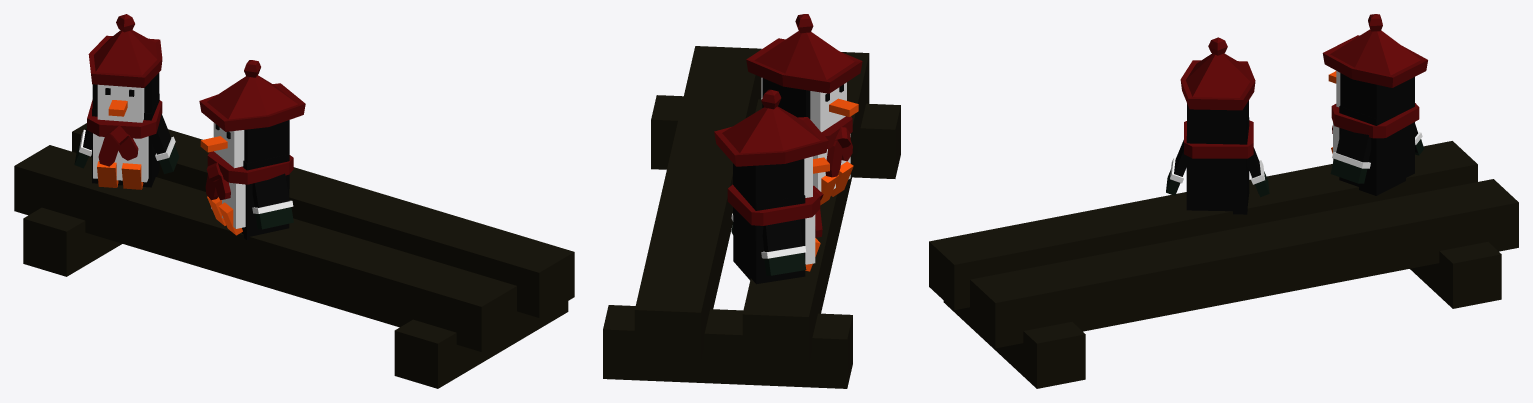
File: Kiddies-op-bankje.obj
The picture shows the model from 3 angles, left to right: view 1: azimuth 30°, elevation 25°; view 2: azimuth 150°, elevation 25°; view 3: azimuth 270°, elevation 25°; orthographic projection. The views are drawn at different scales.
Visible parts, largest first — view 1: pCube130, polySurface629, polySurface608; view 2: pCube130, polySurface608, polySurface629; view 3: pCube130, polySurface608, polySurface629.
Boxes of the visible parts, x1=… form: pCube130: x1=14, y1=123, x2=574, y2=388; polySurface629: x1=199, y1=60, x2=305, y2=240; polySurface608: x1=74, y1=14, x2=179, y2=189; pCube130: x1=603, y1=46, x2=900, y2=388; polySurface608: x1=714, y1=89, x2=829, y2=284; polySurface629: x1=746, y1=14, x2=862, y2=205; pCube130: x1=929, y1=141, x2=1518, y2=388; polySurface608: x1=1322, y1=14, x2=1427, y2=195; polySurface629: x1=1166, y1=37, x2=1269, y2=214.
Size of the model in its own units: 1.31 by 0.8379 by 1.86.
